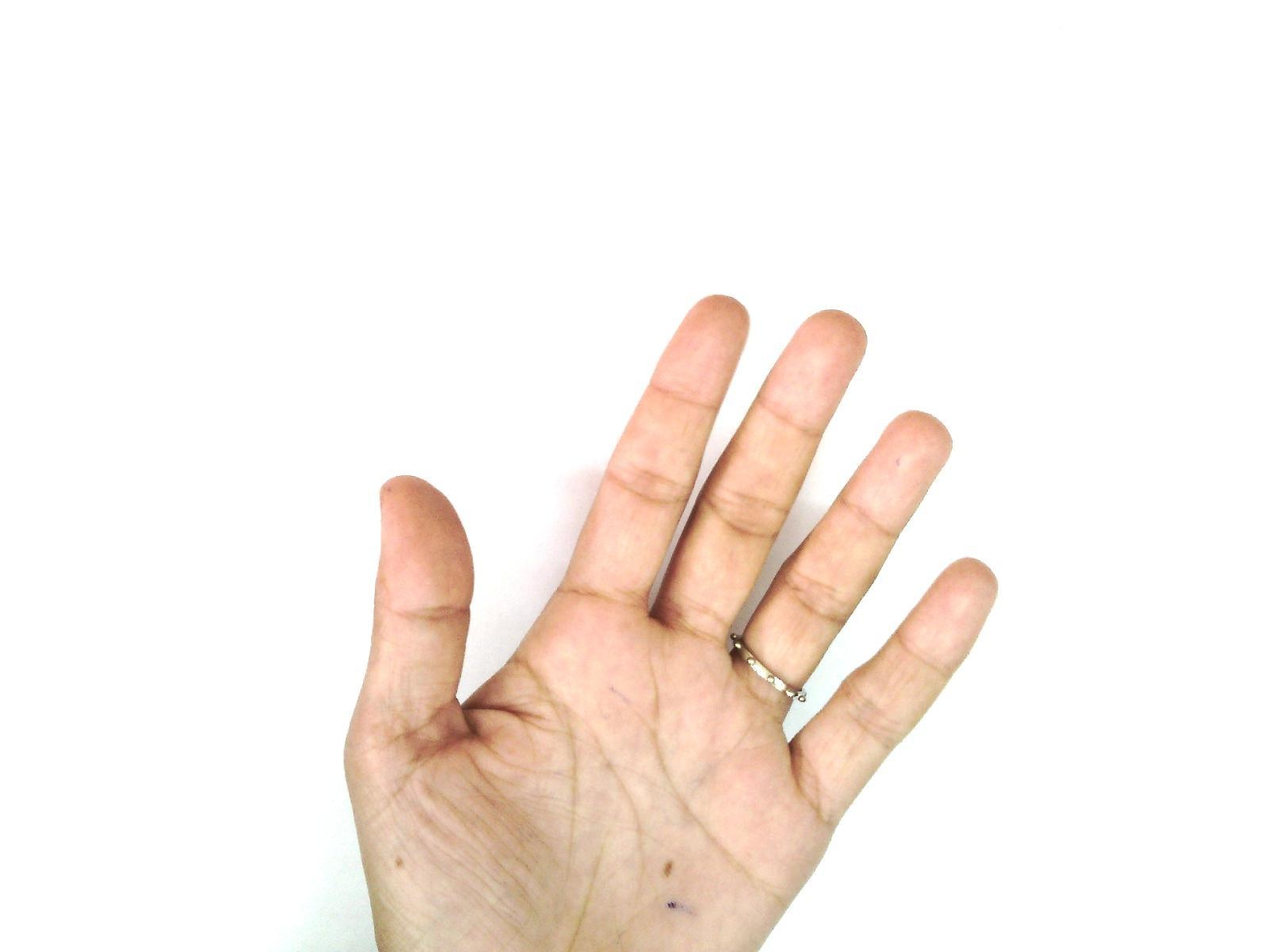open_palm: (341, 293, 1001, 951)
